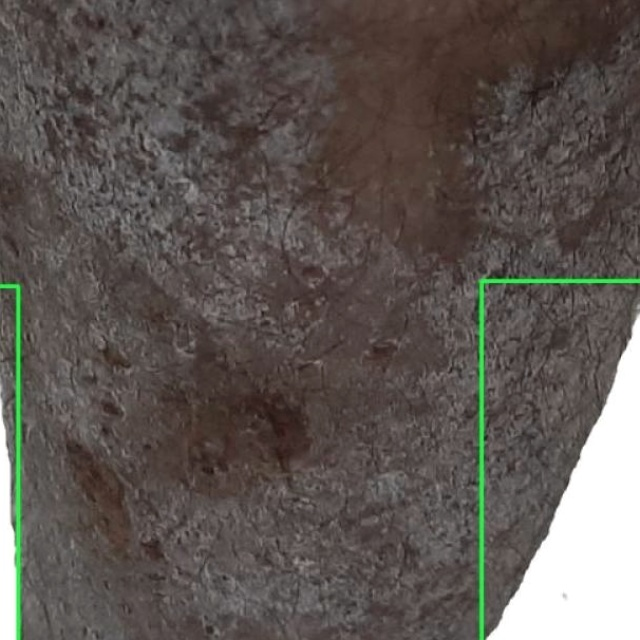Contact Dermatitis: (481, 280, 639, 639)
